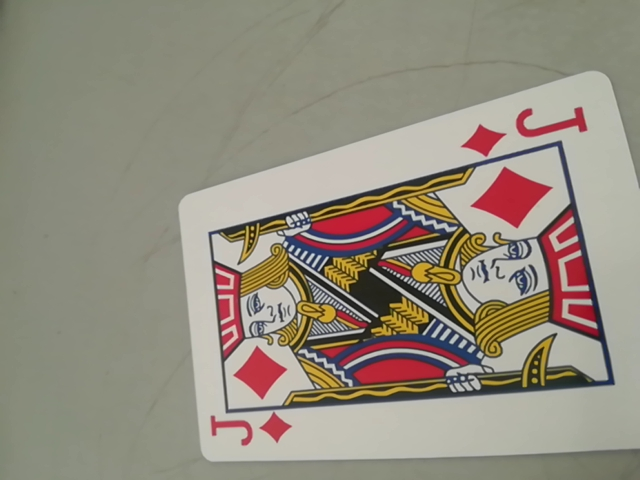fk j: (460, 98, 600, 159), (205, 404, 295, 459)
